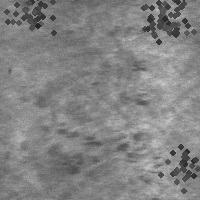rolled-in_scale: (28, 124, 166, 186), (96, 25, 149, 107), (125, 0, 200, 56), (0, 0, 66, 43), (153, 134, 200, 188)
